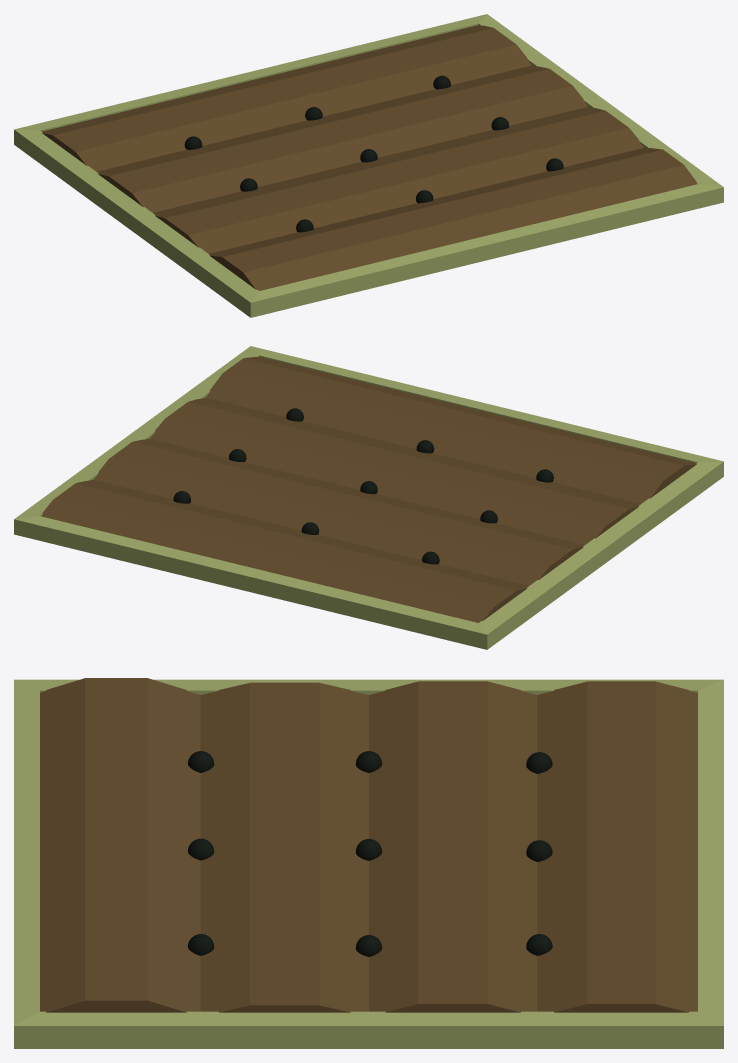
Rendered from семена.fbx.
The picture shows the model from 3 angles, top to bottom: view 1: azimuth 30°, elevation 25°; view 2: azimuth 150°, elevation 25°; view 3: azimuth 270°, elevation 25°; orthographic projection. The views are drawn at different scales.
Visible parts, largest first — view 1: Cube, Cube.001; view 2: Cube, Cube.001; view 3: Cube, Cube.001.
Part boxes in pixels (x1,y1,x2,y2): Cube: (42, 25, 696, 290); Cube.001: (14, 14, 723, 317); Cube: (41, 356, 696, 622); Cube.001: (14, 346, 723, 649); Cube: (40, 678, 697, 1012); Cube.001: (14, 679, 723, 1048).
Size of the model in its own units: 650 by 31.79 by 563.
